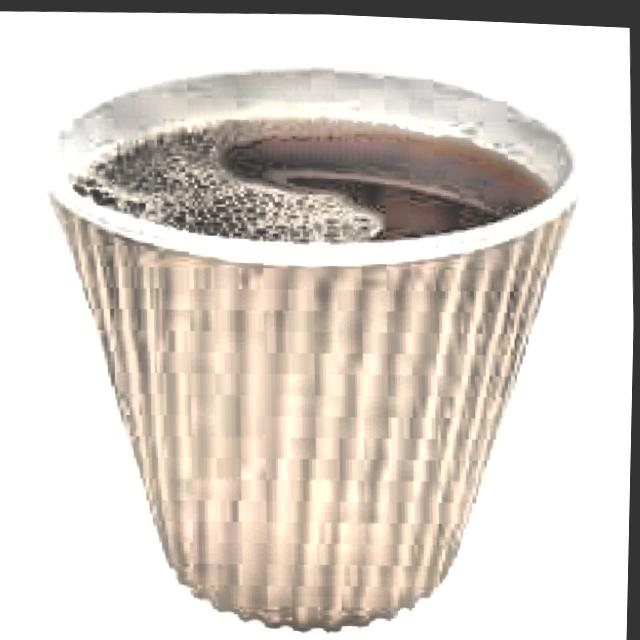Cup: (27, 25, 604, 640)
